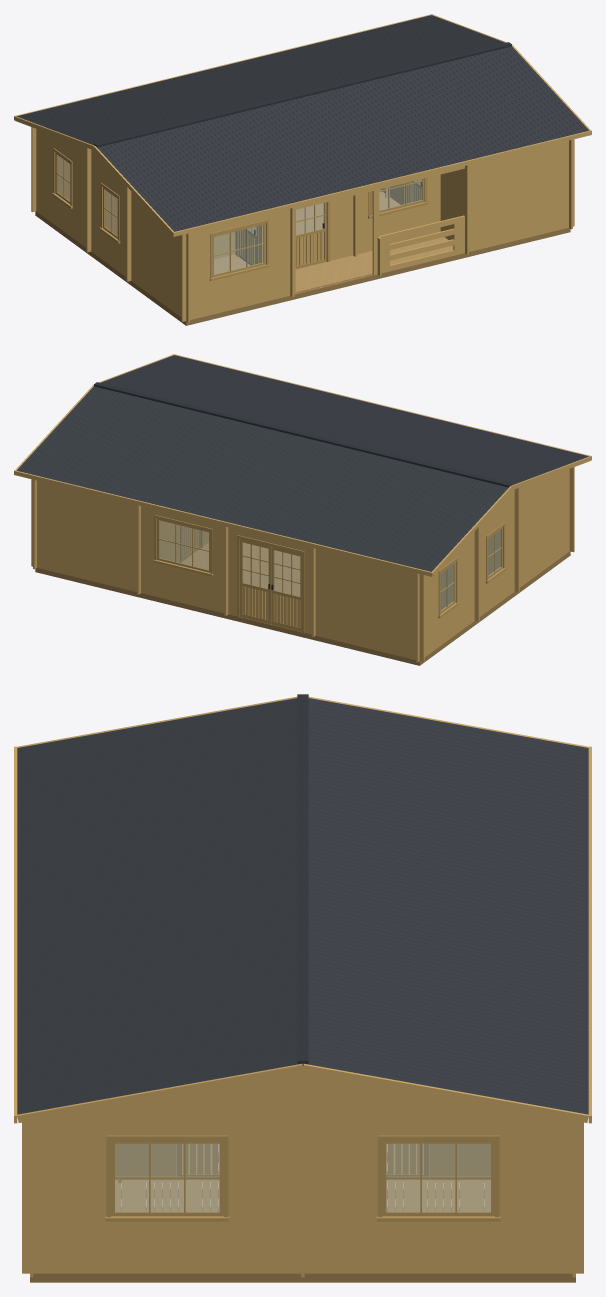
File: аккорд_7_10_2_44_мм_встроенная_веранда.glb
3 views of the same model, one above another, from view 1: azimuth 30°, elevation 25°; view 2: azimuth 150°, elevation 25°; view 3: azimuth 270°, elevation 25° (orthographic). The views are drawn at different scales.
Parts seen in each view (by area): view 1: roof, walls, floor, house, object 180, object 115, object 102, object 203, object 192; view 2: roof, walls, house, floor, object 168, object 154, object 136, object 192, object 203; view 3: roof, walls, floor, object 214, object 226, house.
Part boxes in pixels (<box>): roof: <box>14,14,591,236</box>; walls: <box>31,127,574,322</box>; floor: <box>214,189,453,293</box>; house: <box>35,211,570,325</box>; object 180: <box>214,225,263,274</box>; object 115: <box>379,179,421,210</box>; object 102: <box>296,203,323,234</box>; object 203: <box>105,190,117,235</box>; object 192: <box>57,155,69,200</box>; roof: <box>14,354,591,576</box>; walls: <box>31,467,574,662</box>; house: <box>35,551,570,665</box>; floor: <box>182,542,300,618</box>; object 168: <box>159,520,208,569</box>; object 154: <box>274,550,299,596</box>; object 136: <box>243,543,268,588</box>; object 192: <box>441,564,453,610</box>; object 203: <box>488,530,500,575</box>; roof: <box>14,694,591,1123</box>; walls: <box>22,1072,583,1277</box>; floor: <box>115,1143,490,1211</box>; object 214: <box>386,1144,490,1211</box>; object 226: <box>115,1144,219,1211</box>; house: <box>30,1153,575,1282</box>.
Bounding box in the file's own units: 10.88 × 3.23 × 7.2.
